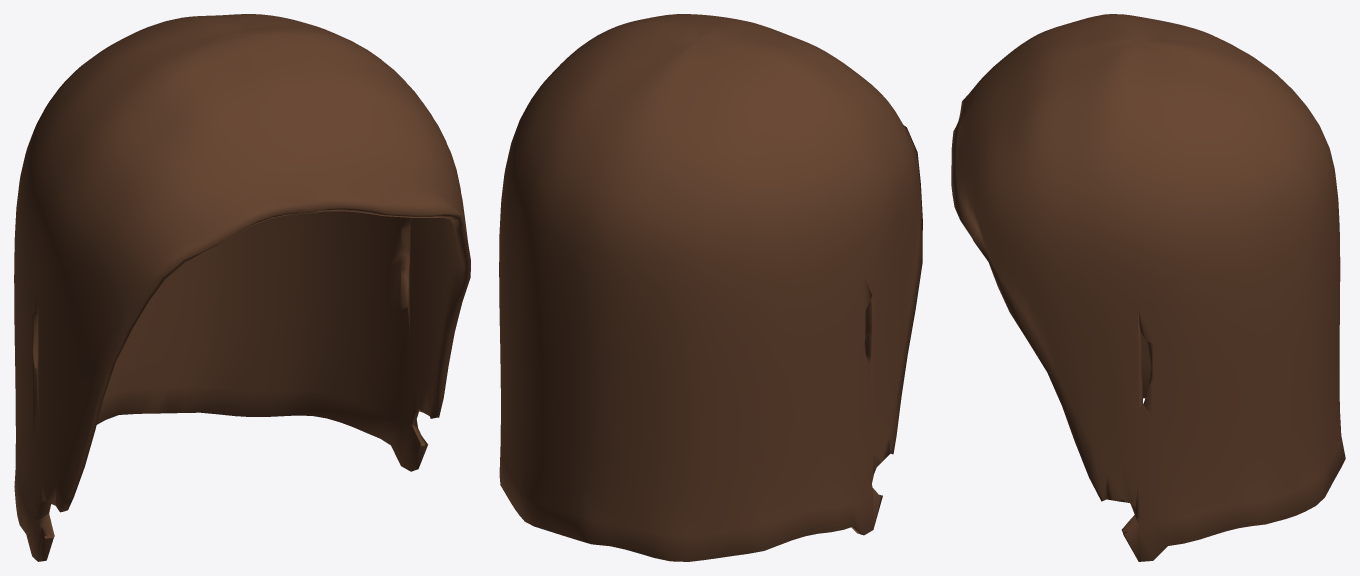
The model's file is 2HT-masculino.glb.
The picture shows the model from 3 angles, left to right: view 1: azimuth 30°, elevation 25°; view 2: azimuth 150°, elevation 25°; view 3: azimuth 270°, elevation 25°; orthographic projection. The views are drawn at different scales.
Visible parts, largest first — view 1: sculpted-scalp; view 2: sculpted-scalp; view 3: sculpted-scalp.
Part boxes in pixels (x1,y1,x2,y2): sculpted-scalp: (14, 14, 470, 561); sculpted-scalp: (499, 14, 922, 561); sculpted-scalp: (951, 14, 1345, 561).
Size of the model in its own units: 0.0667 by 0.0806 by 0.0657.
